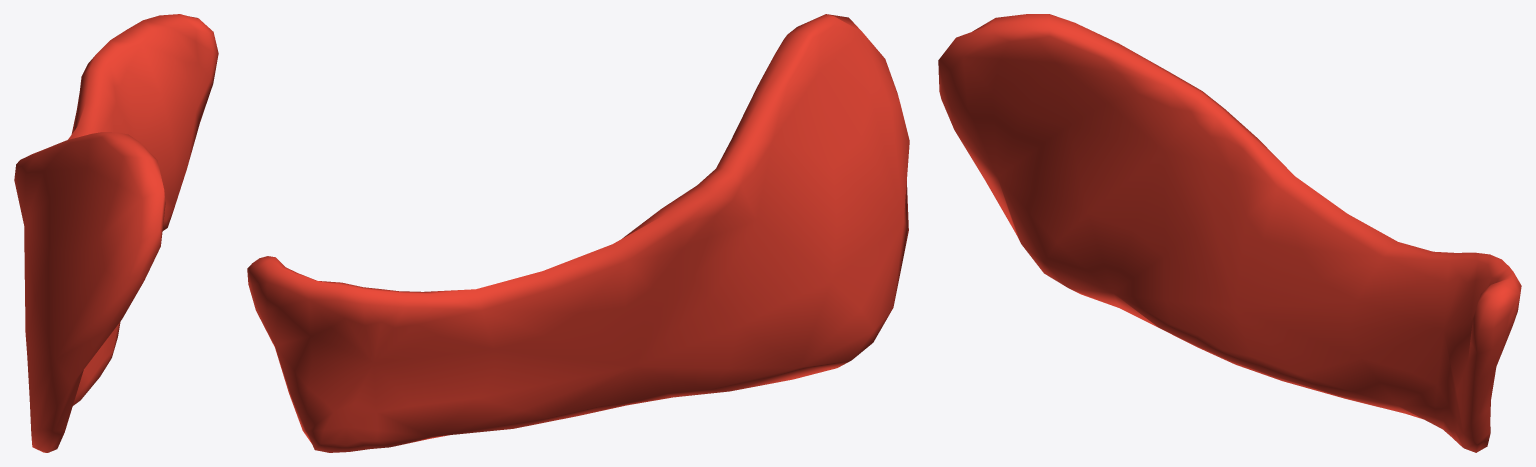
The model's file is Adductor_hallucis_transverse_head_3rd_metatarsal_001_right.glb.
3 renders of one model, left to right at view 1: azimuth 30°, elevation 25°; view 2: azimuth 150°, elevation 25°; view 3: azimuth 270°, elevation 25°, orthographic. The views are drawn at different scales.
Parts seen in each view (by area): view 1: Transverse_head_of_adductor_hallucis_on_3rd_metatarsal_head_; view 2: Transverse_head_of_adductor_hallucis_on_3rd_metatarsal_head_; view 3: Transverse_head_of_adductor_hallucis_on_3rd_metatarsal_head_.
Boxes of the visible parts, x1,y1,x2,y2 form: Transverse_head_of_adductor_hallucis_on_3rd_metatarsal_head_: (14, 14, 218, 452); Transverse_head_of_adductor_hallucis_on_3rd_metatarsal_head_: (247, 14, 909, 452); Transverse_head_of_adductor_hallucis_on_3rd_metatarsal_head_: (938, 14, 1521, 452).
Bounding box in the file's own units: 0.00622 × 0.00473 × 0.008.
